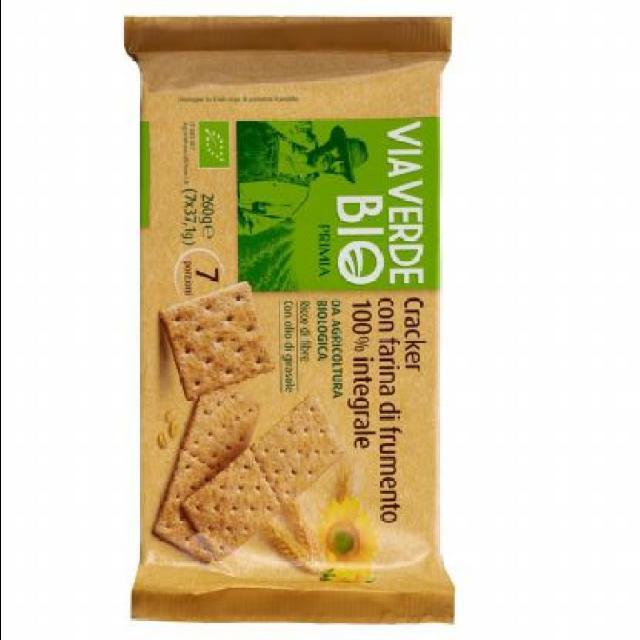Cracker: (118, 6, 458, 640)
